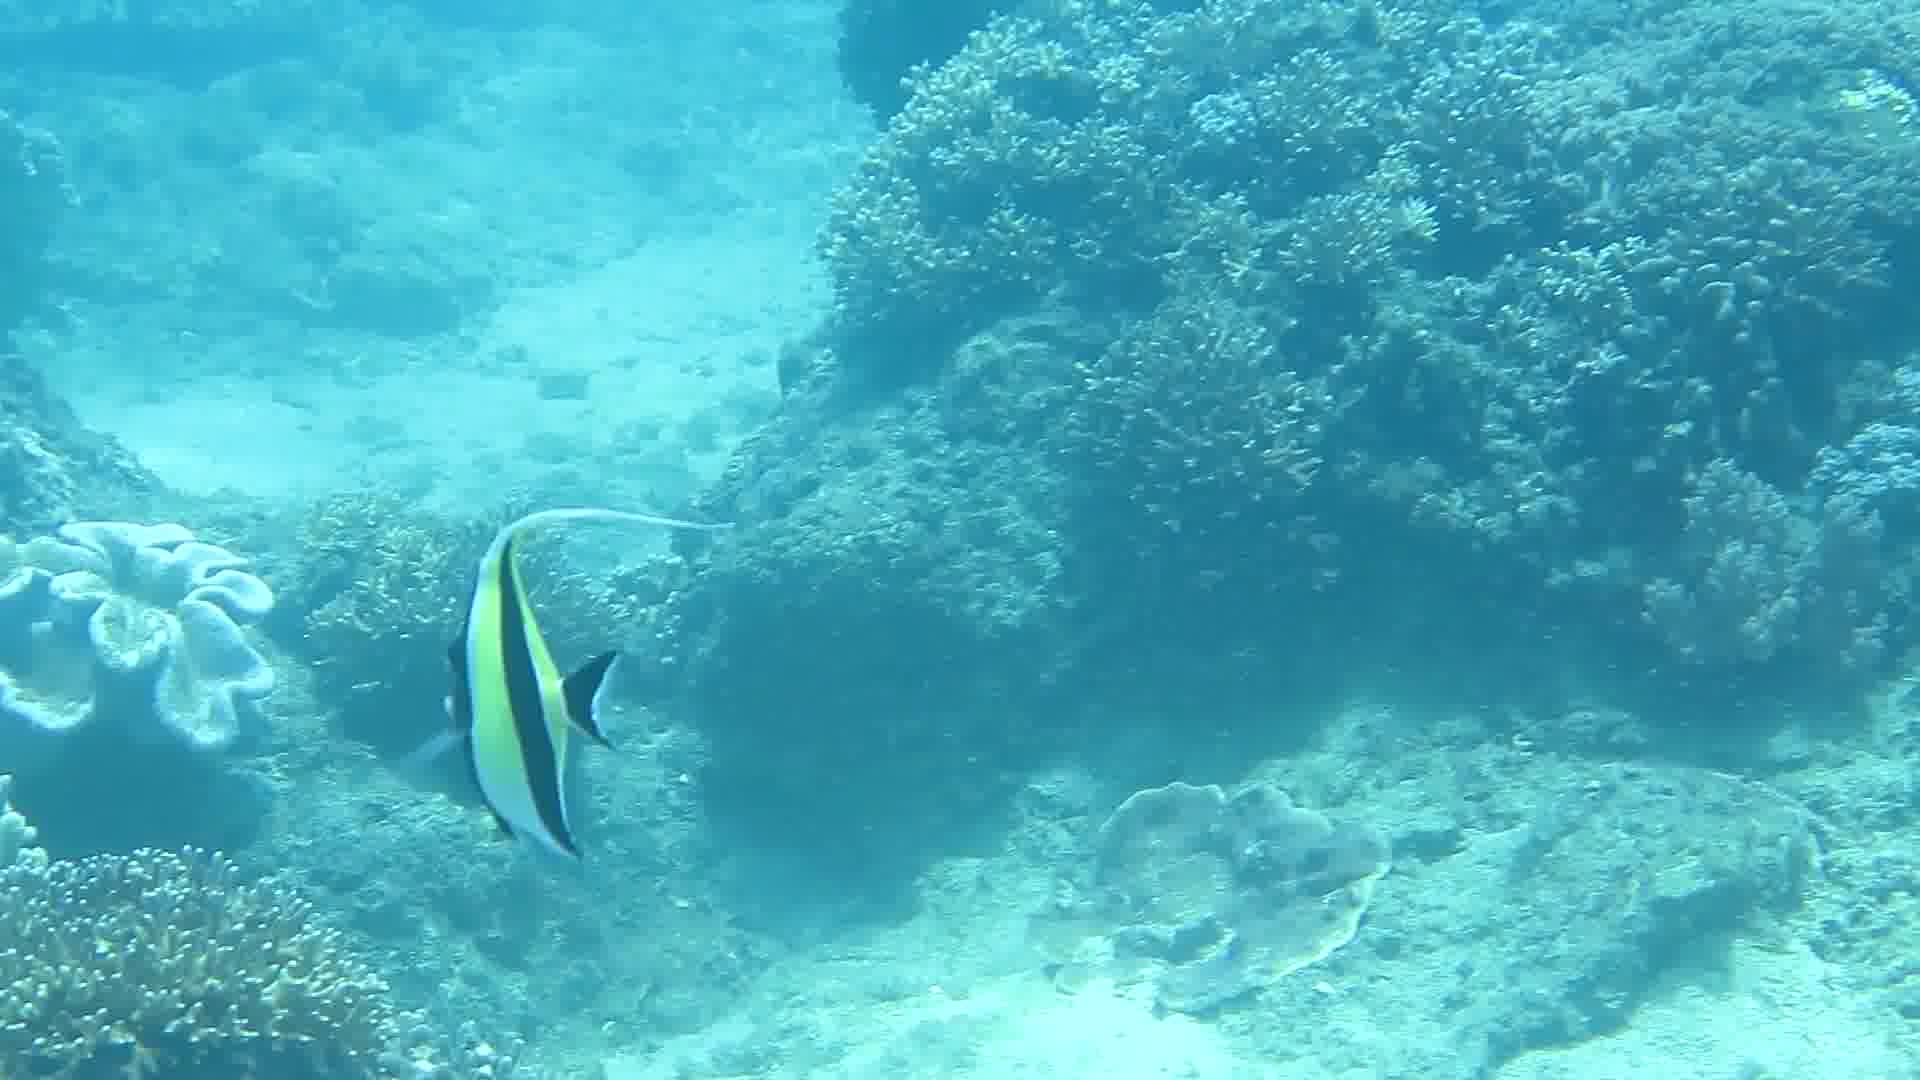Zanclus cornutus: (405, 508, 632, 866)
